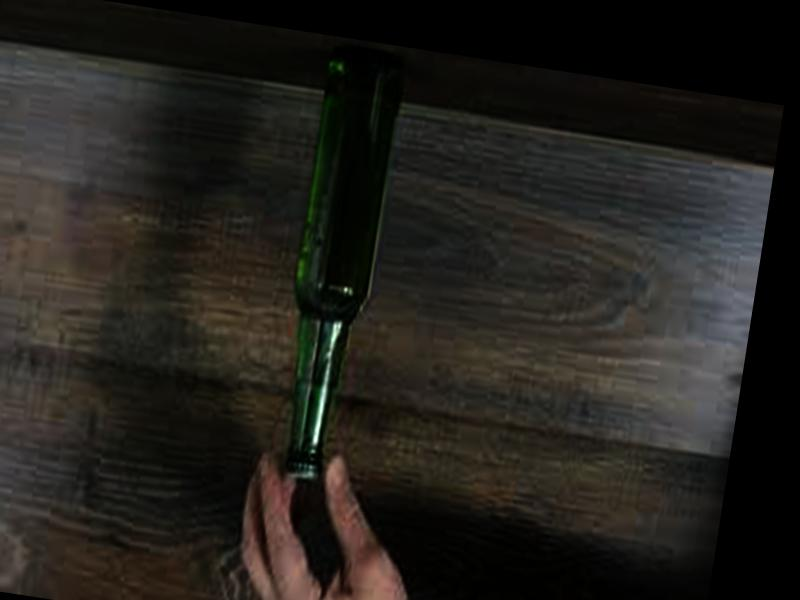Beer: (265, 46, 408, 487)
